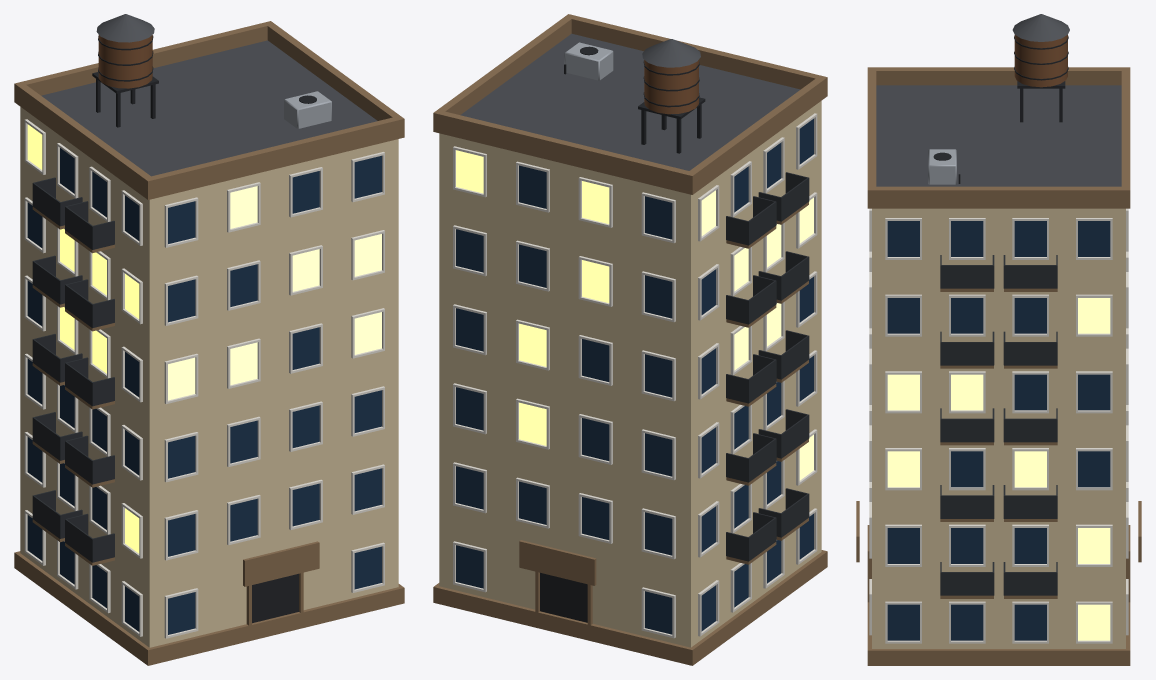
File: building_b.glb
3 views of the same model, side by side, from view 1: azimuth 30°, elevation 25°; view 2: azimuth 150°, elevation 25°; view 3: azimuth 270°, elevation 25° (orthographic). The views are drawn at different scales.
Visible parts, largest first — view 1: Building_B_Mesh; view 2: Building_B_Mesh; view 3: Building_B_Mesh.
Part boxes in pixels (x1,y1,x2,y2): Building_B_Mesh: (14,14,404,665); Building_B_Mesh: (433,14,827,665); Building_B_Mesh: (856,14,1141,665).
Size of the model in its own units: 11.81 by 21.9 by 10.12.
